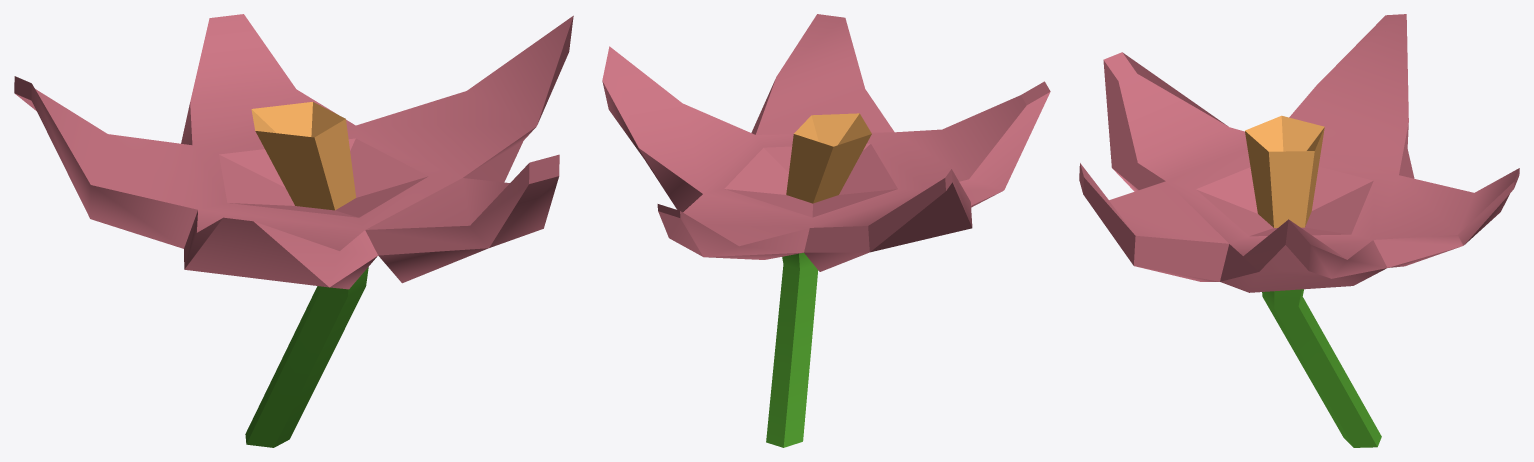
Rendered from Flower_lilly.fbx.
3 renders of one model, left to right at view 1: azimuth 30°, elevation 25°; view 2: azimuth 150°, elevation 25°; view 3: azimuth 270°, elevation 25°, orthographic. The views are drawn at different scales.
Parts seen in each view (by area): view 1: Flower; view 2: Flower; view 3: Flower.
Boxes of the visible parts, x1,y1,x2,y2 form: Flower: (14, 14, 573, 447); Flower: (602, 14, 1050, 447); Flower: (1079, 14, 1519, 447).
Size of the model in its own units: 0.8775 by 0.6883 by 0.8183.
